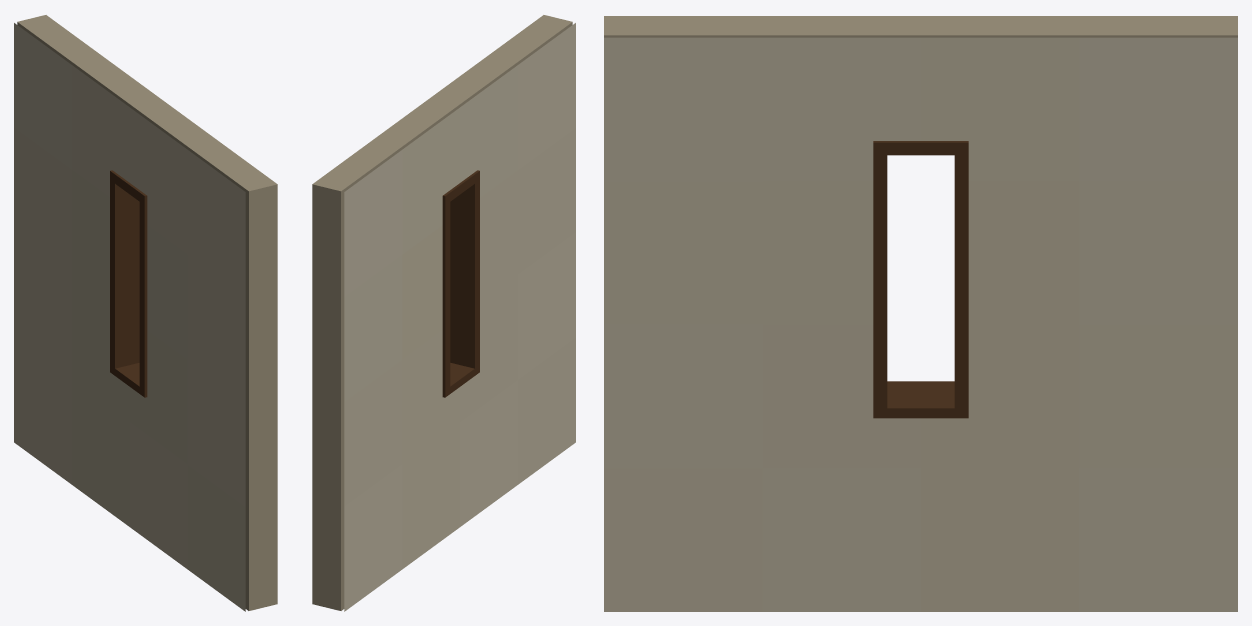
File: wall-plaster-window-slit.glb
3 renders of one model, left to right at view 1: azimuth 30°, elevation 25°; view 2: azimuth 150°, elevation 25°; view 3: azimuth 270°, elevation 25°, orthographic. The views are drawn at different scales.
Visible parts, largest first — view 1: wall-plaster-window-slit; view 2: wall-plaster-window-slit; view 3: wall-plaster-window-slit.
Part boxes in pixels (<box>): wall-plaster-window-slit: <box>14,15,277,611</box>; wall-plaster-window-slit: <box>312,15,575,611</box>; wall-plaster-window-slit: <box>604,16,1237,611</box>.
Bounding box in the file's own units: 0.1 × 1 × 1.
